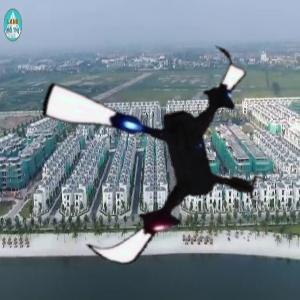drone: (27, 25, 279, 277)
